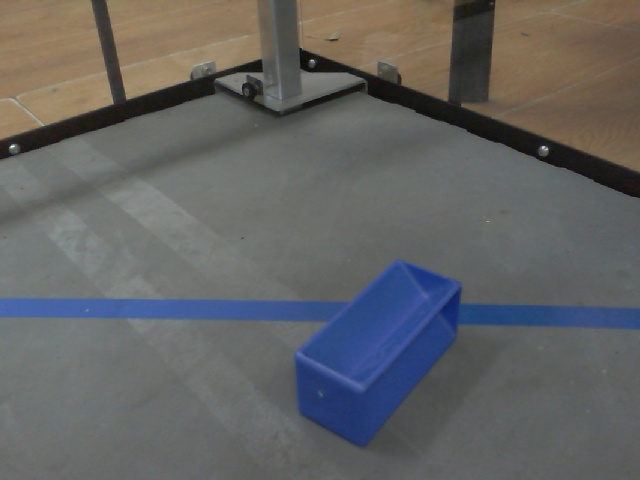BlueSample: (289, 256, 467, 453)
